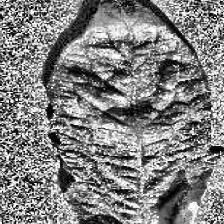spider mites: (48, 0, 223, 224)
